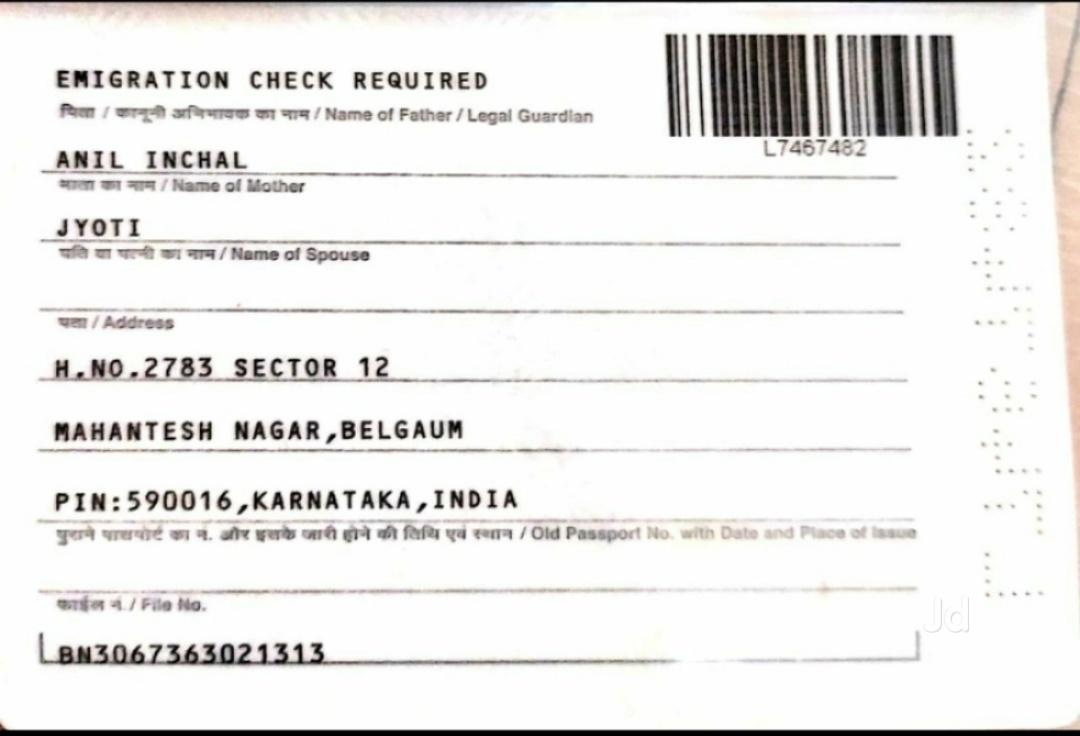File_no: (50, 636, 330, 670)
address: (37, 339, 531, 520)
father_name: (47, 140, 286, 180)
mother_name: (51, 206, 163, 250)
passport_no: (754, 131, 893, 161)
